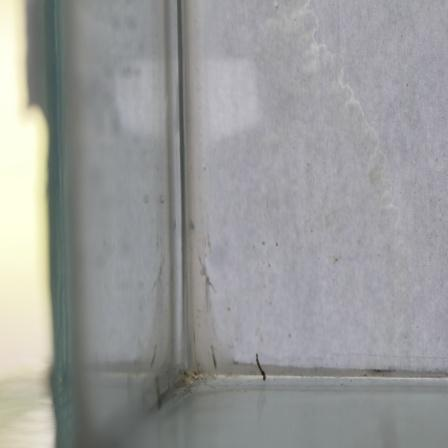Jentik-Nyamuk: (249, 348, 270, 386)
